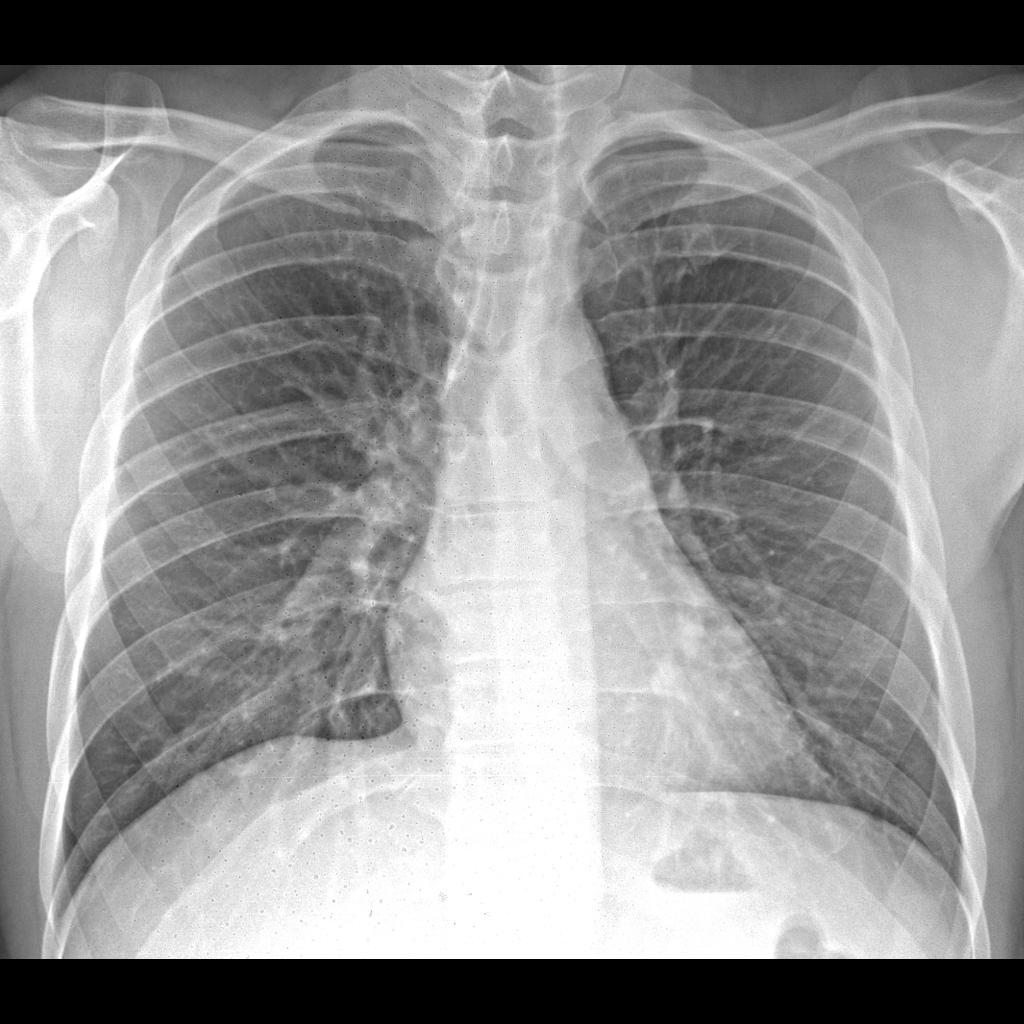Nodule: (632, 645, 699, 714)
